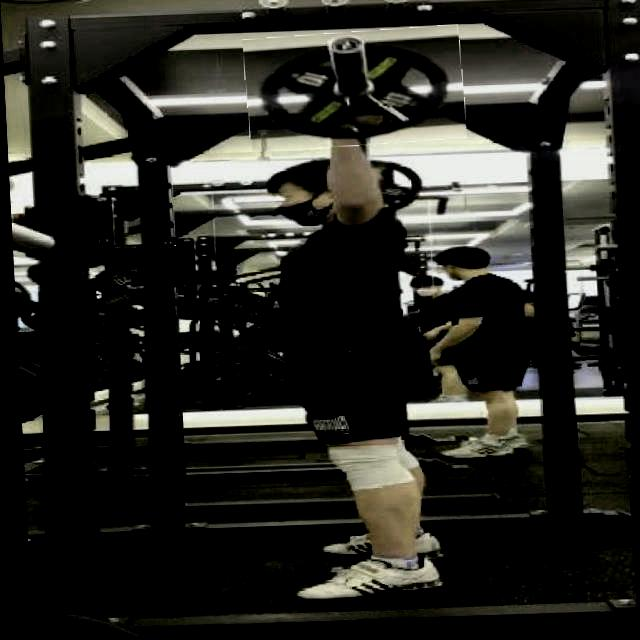barbell: (243, 30, 465, 153)
